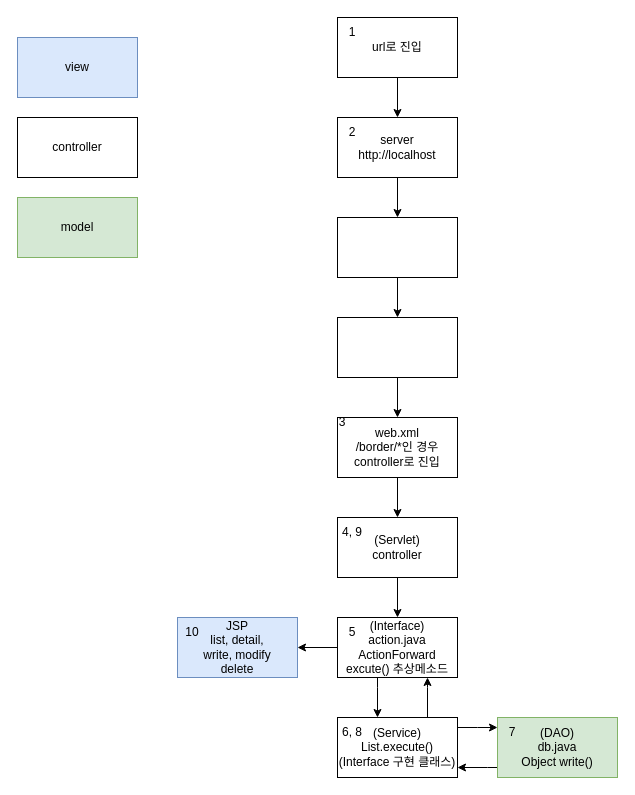
This 635x795 diagram has some shape labels left out. Here are the shapes that lost their labels. From the top down, the centre of each, then its label:
(397,247): tomcat http://localhost:8080
(397,347): project
